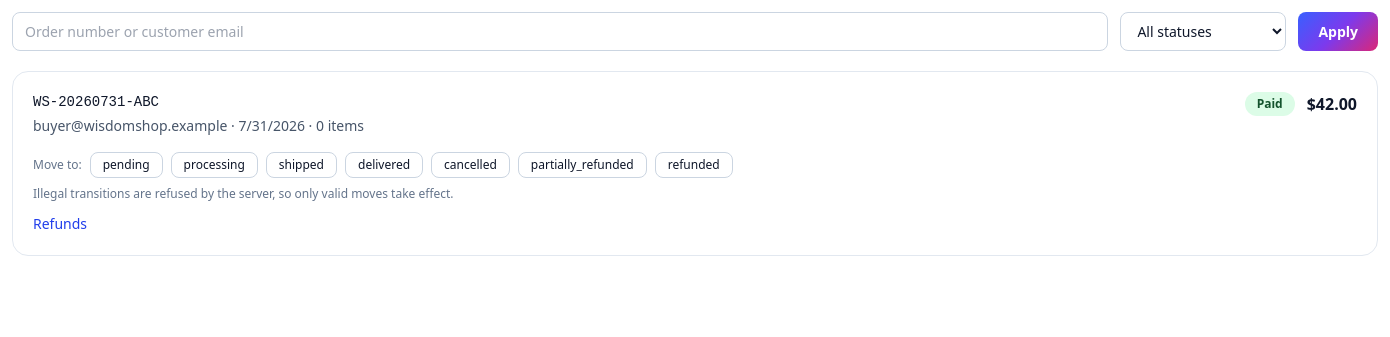
Test case: AdminOrderList › falls back to a plain message when the failure is not from the API
Click the button "shipped".
click(301, 165)  # box [266,152,337,178]
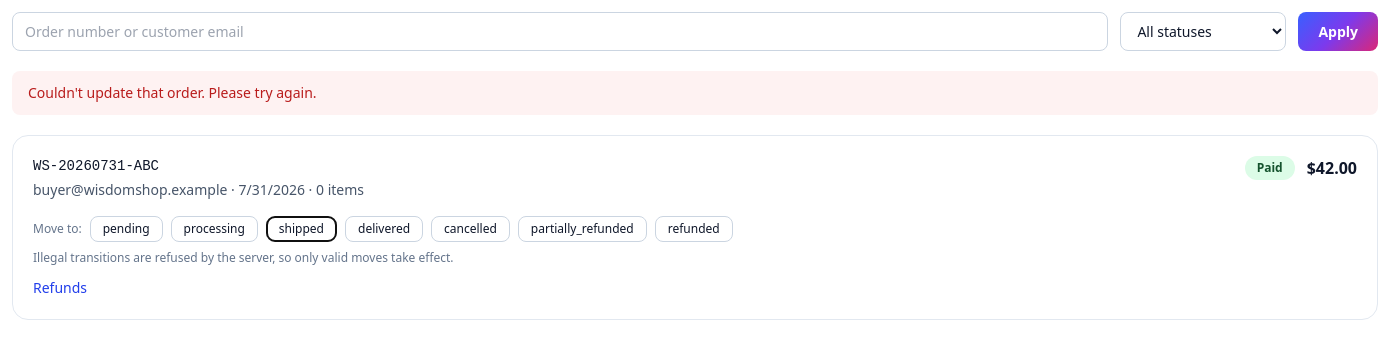
Expected: the message shows "Couldn't update that order", [28,83,317,102]
